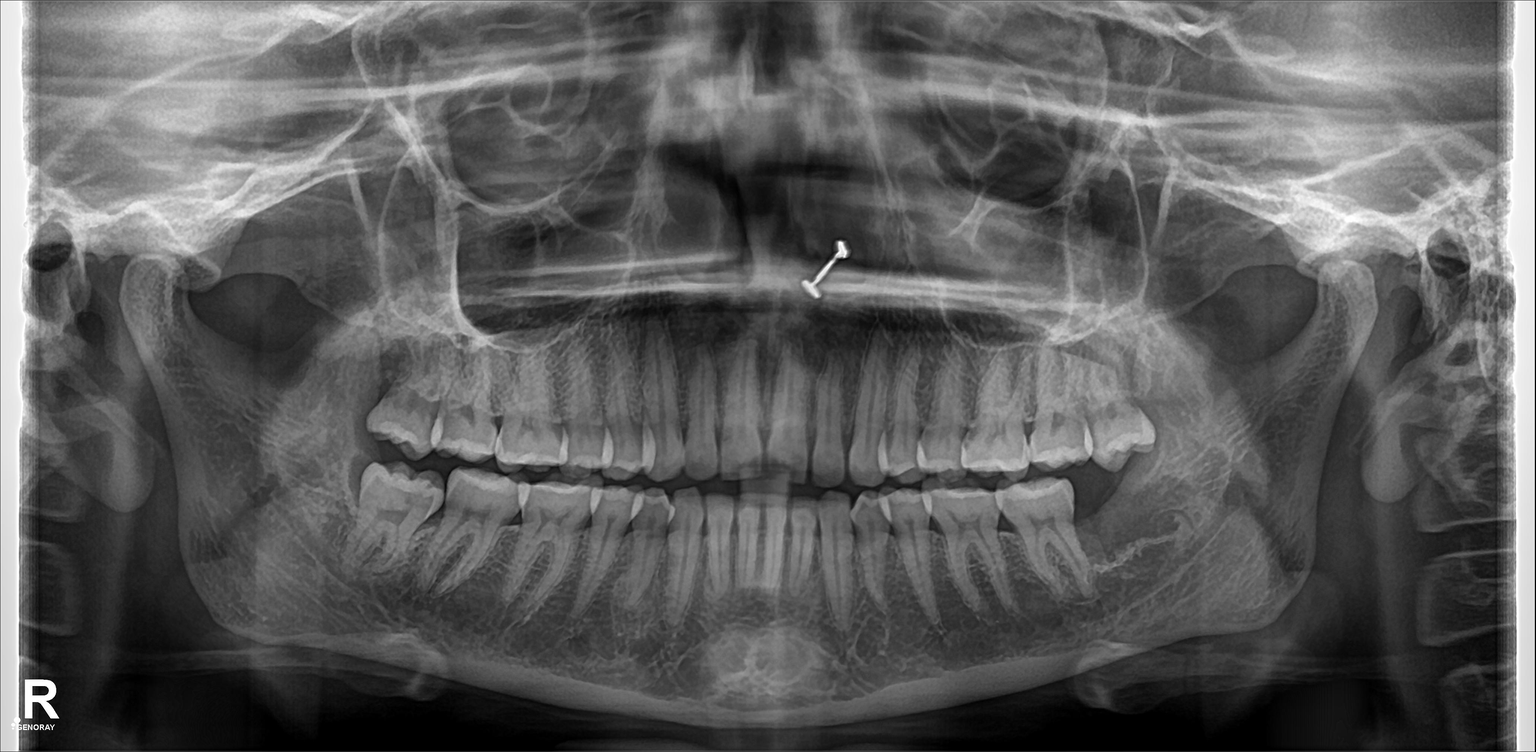Missing Tooth: (1076, 469, 1125, 559)
